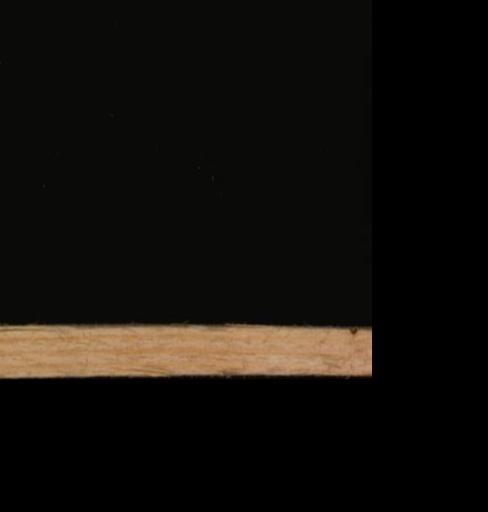edge_knot: (339, 324, 361, 341)
